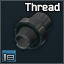SilencerCo Salvo 12 thread adapter: (0, 0, 64, 64)
